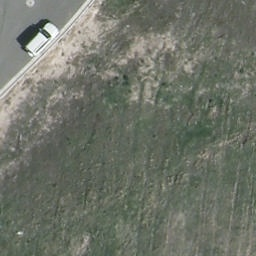car: (24, 22, 57, 57)
